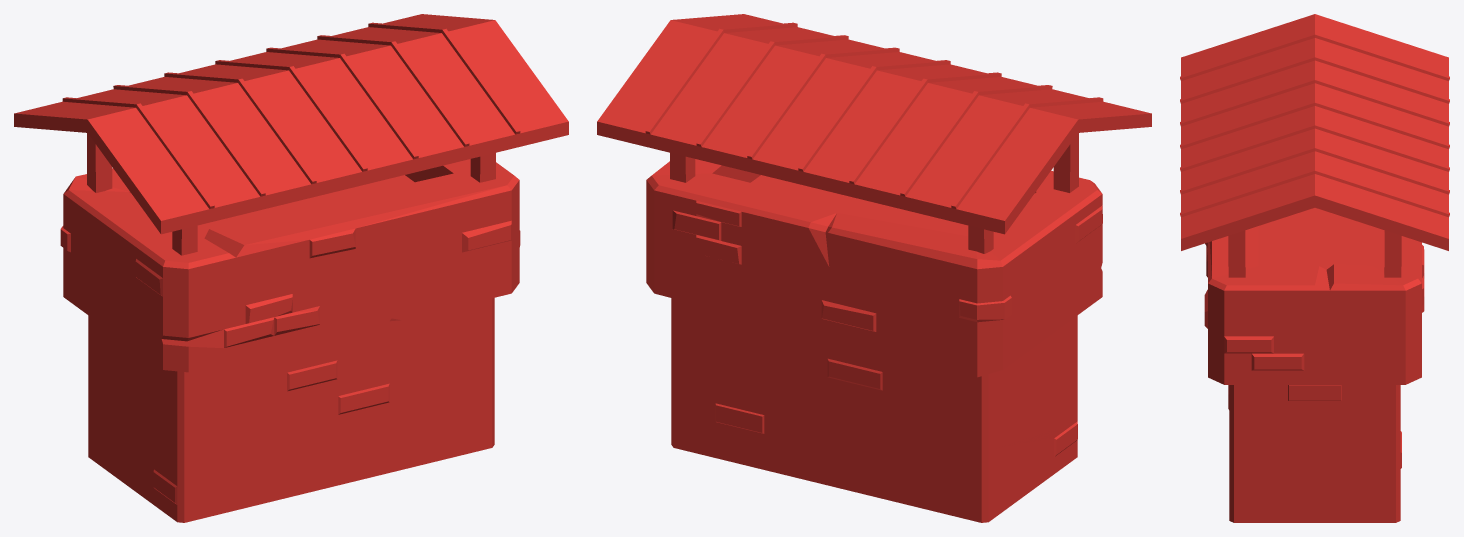
Rendered from SM_Chimney_Christmas_Top.fbx.
The picture shows the model from 3 angles, left to right: view 1: azimuth 30°, elevation 25°; view 2: azimuth 150°, elevation 25°; view 3: azimuth 270°, elevation 25°; orthographic projection. The views are drawn at different scales.
Parts seen in each view (by area): view 1: chimney-christmas-top; view 2: chimney-christmas-top; view 3: chimney-christmas-top.
Boxes of the visible parts, left/top/right/bottom form: chimney-christmas-top: left=14, top=14, right=568, bottom=522; chimney-christmas-top: left=597, top=14, right=1151, bottom=522; chimney-christmas-top: left=1180, top=14, right=1449, bottom=522.
Bounding box in the file's own units: 1.59 × 1.43 × 0.9998.
